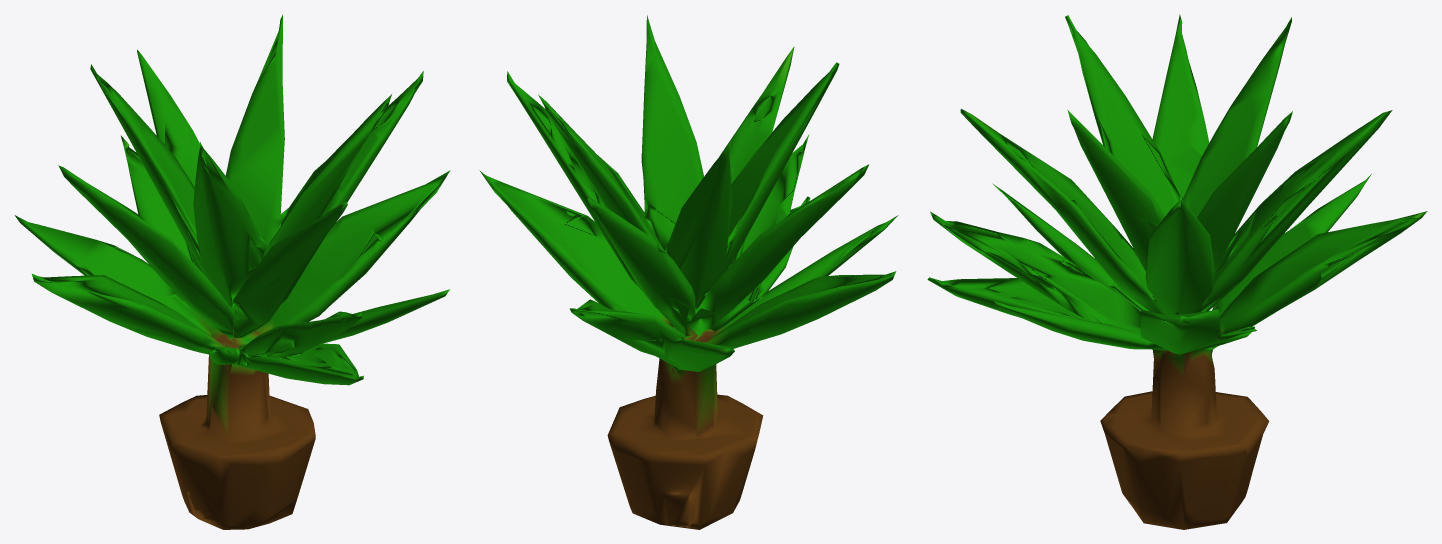
The model's file is gen3d-agave-plant-lod0.glb.
3 views of the same model, side by side, from view 1: azimuth 30°, elevation 25°; view 2: azimuth 150°, elevation 25°; view 3: azimuth 270°, elevation 25° (orthographic). The views are drawn at different scales.
Visible parts, largest first — view 1: part_0; view 2: part_0; view 3: part_0.
Boxes of the visible parts, left/top/right/bottom form: part_0: left=14, top=14, right=450, bottom=529; part_0: left=479, top=15, right=898, bottom=529; part_0: left=927, top=14, right=1427, bottom=529.
Bounding box in the file's own units: 1.01 × 0.9971 × 1.01.
